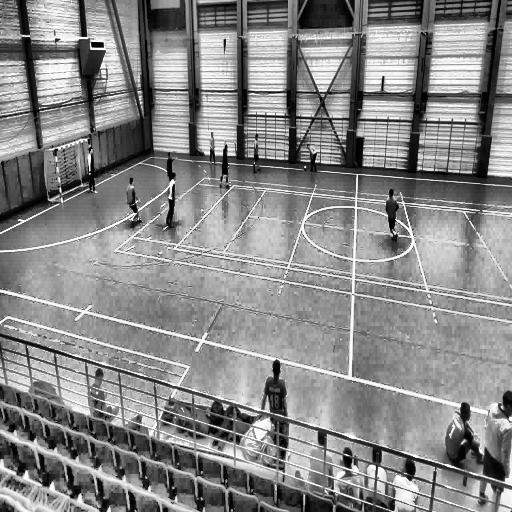ball: (302, 164, 308, 172)
player: (478, 390, 511, 507), (126, 176, 142, 228), (385, 186, 397, 243), (166, 170, 176, 228), (86, 144, 96, 194), (220, 144, 230, 190), (252, 134, 262, 173), (166, 150, 176, 181), (208, 132, 216, 165), (309, 146, 318, 174)
